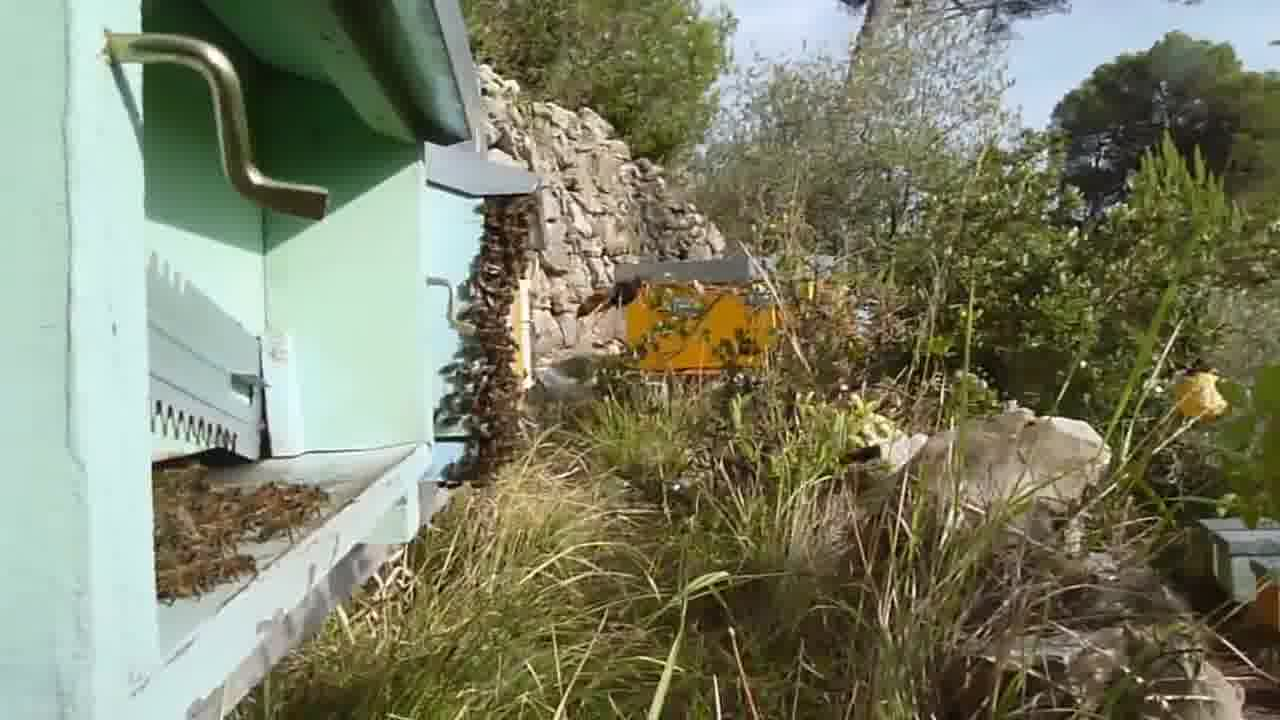bee: (150, 459, 216, 603), (199, 480, 333, 543), (434, 357, 535, 434), (473, 188, 546, 282), (459, 276, 529, 357), (208, 540, 274, 591)
hornet: (577, 277, 651, 324)
